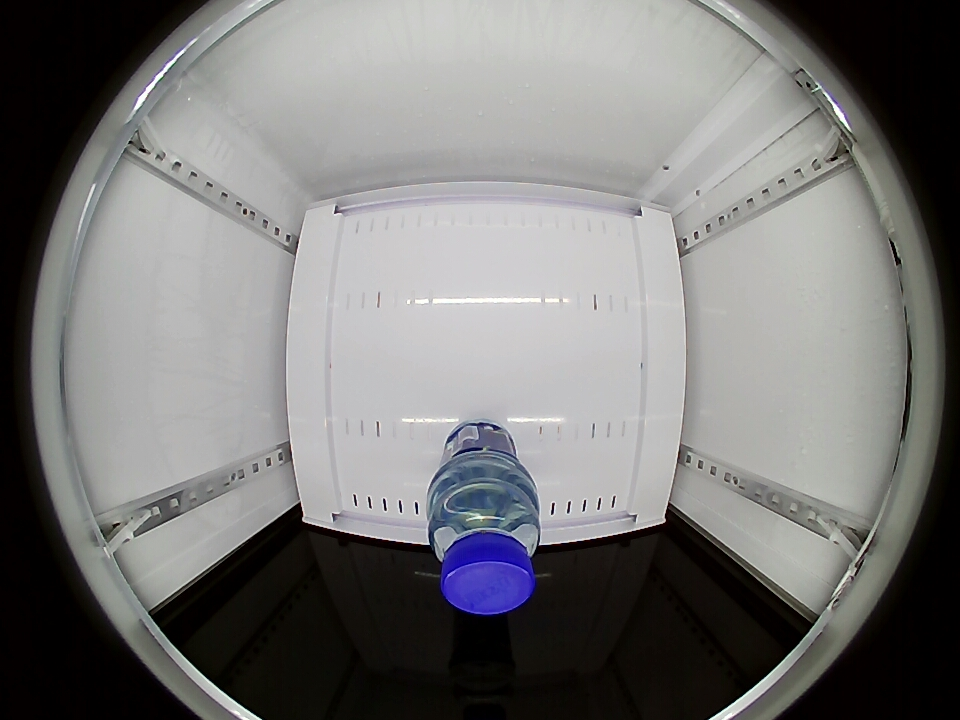maidong: (429, 479, 541, 616)
